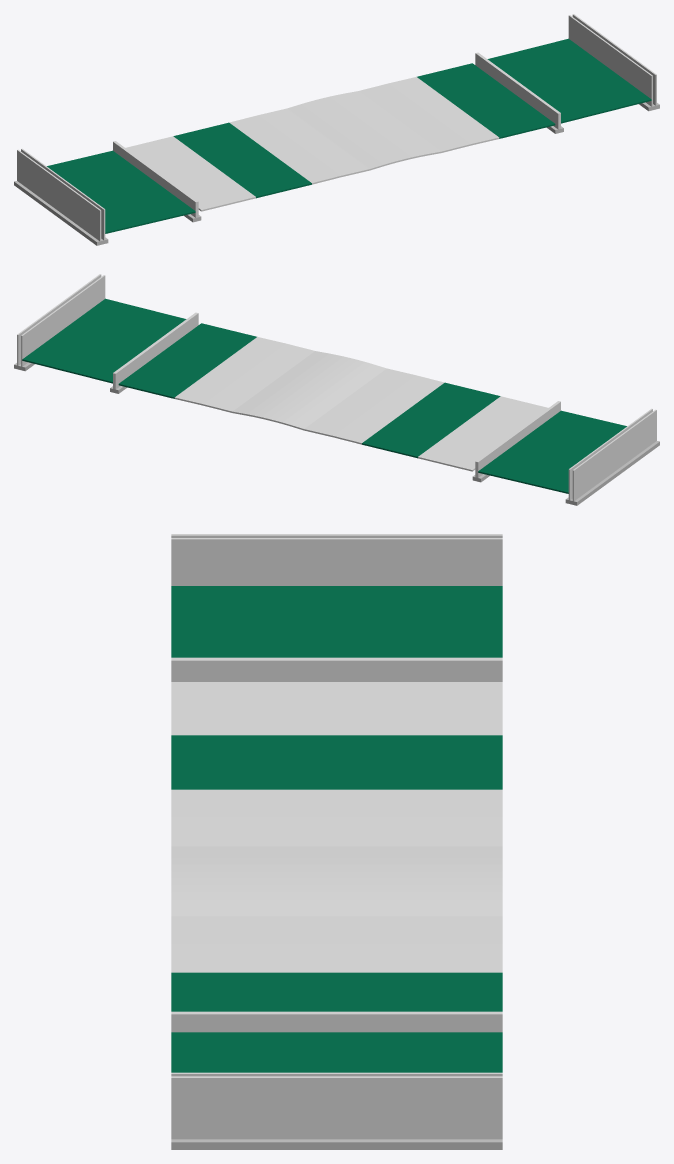
3 renders of one model, top to bottom at view 1: azimuth 30°, elevation 25°; view 2: azimuth 150°, elevation 25°; view 3: azimuth 270°, elevation 25°, orthographic. The views are drawn at different scales.
Visible parts, largest first — view 1: Gras_01, ISR_Metselwerk_Trapani_kloostermuur, Maaiveld, ISR_Metselwerk_rood, PVC grijs, ISR_Hardhout, f2_beton ihwg_gen; view 2: Gras_01, ISR_Metselwerk_Trapani_kloostermuur, Maaiveld, ISR_Metselwerk_rood, PVC grijs, ISR_Hardhout, f2_beton ihwg_gen; view 3: Gras_01, ISR_Metselwerk_Trapani_kloostermuur, Maaiveld, PVC grijs, ISR_Metselwerk_rood, ISR_Hardhout, f2_beton ihwg_gen.
Part boxes in pixels (box(x1,y1,x2,y2)): Gras_01: box(47, 38, 651, 233); ISR_Metselwerk_Trapani_kloostermuur: box(17, 14, 656, 241); Maaiveld: box(287, 91, 441, 170); ISR_Metselwerk_rood: box(258, 83, 470, 177); PVC grijs: box(229, 77, 499, 184); ISR_Hardhout: box(126, 136, 255, 211); f2_beton ihwg_gen: box(14, 102, 659, 245); Gras_01: box(22, 298, 626, 493); ISR_Metselwerk_Trapani_kloostermuur: box(17, 274, 656, 501); Maaiveld: box(232, 351, 386, 430); ISR_Metselwerk_rood: box(203, 343, 415, 437); PVC grijs: box(174, 337, 444, 444); ISR_Hardhout: box(418, 396, 547, 471); f2_beton ihwg_gen: box(14, 362, 659, 505); Gras_01: box(171, 586, 502, 1072); ISR_Metselwerk_Trapani_kloostermuur: box(171, 534, 502, 1139); Maaiveld: box(171, 846, 502, 916); PVC grijs: box(171, 789, 502, 972); ISR_Metselwerk_rood: box(171, 817, 502, 943); ISR_Hardhout: box(171, 682, 502, 735); f2_beton ihwg_gen: box(171, 1139, 502, 1149).
Bounding box in the file's own units: 1545 × 90.55 × 394.
